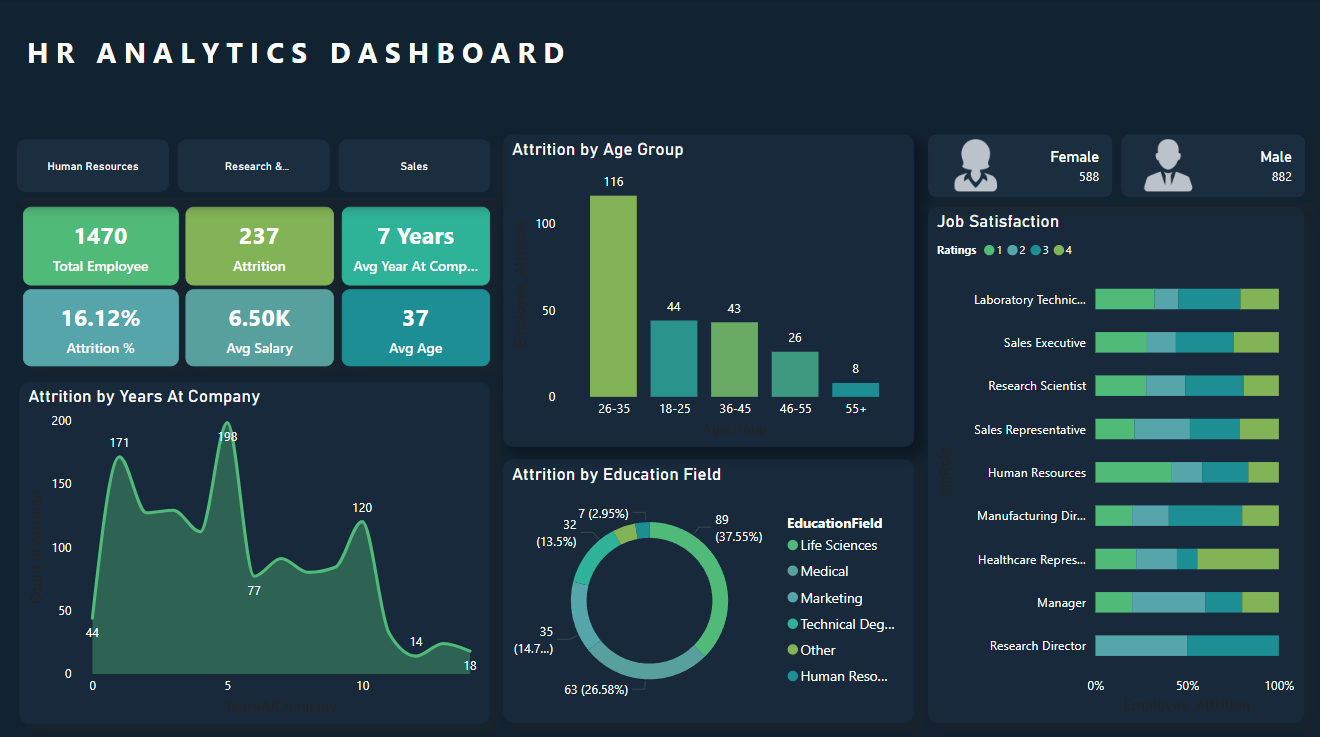

The dashboard page shown, as its layout file describes it:
{"tool":"powerbi","page":{"name":"Page 1","canvas":[1280,720],"ordinal":0},"visuals":[{"type":"image","box":[910,131.4,68.6,60],"z":0},{"type":"image","box":[1095.7,131.4,68.6,60],"z":1000},{"type":"card","fields":{"Values":["HR_Analytics Dataset.Employee_Count"]},"box":[24.3,201.4,150,75.7],"z":2000},{"type":"card","fields":{"Values":["HR_Analytics Dataset.Employee_Attrition"]},"box":[181.4,201.4,142.9,75.7],"z":3000},{"type":"card","fields":{"Values":["HR_Analytics Dataset.Years_With_Text"]},"box":[331.4,201.4,142.9,75.7],"z":4000},{"type":"card","fields":{"Values":["HR_Analytics Dataset.Attrition%"]},"box":[24.3,281.4,150,74.3],"z":5000},{"type":"card","fields":{"Values":["HR_Analytics Dataset.Avg_Salary"]},"box":[181.4,281.4,142.9,74.3],"z":6000},{"type":"card","fields":{"Values":["HR_Analytics Dataset.Avg_Age"]},"box":[331.4,281.4,142.9,74.3],"z":7000},{"type":"areaChart","title":"Attrition by Years At Company","fields":{"Category":["HR_Analytics Dataset.YearsAtCompany"],"Y":["CountNonNull(HR_Analytics Dataset.Attrition)"]},"box":[20,370,454.3,330],"z":8000},{"type":"donutChart","title":"Attrition by Education Field","fields":{"Y":["HR_Analytics Dataset.Employee_Attrition"],"Category":["HR_Analytics Dataset.EducationField"]},"box":[487.1,445.7,397.1,254.3],"z":9000},{"type":"clusteredColumnChart","title":"Attrition by Age Group","fields":{"Category":["HR_Analytics Dataset.AgeGroup"],"Y":["HR_Analytics Dataset.Employee_Attrition"]},"box":[487.1,131.4,397.1,301.4],"z":10000},{"type":"hundredPercentStackedBarChart","title":"Job Satisfaction","fields":{"Y":["HR_Analytics Dataset.Employee_Attrition"],"Series":["HR_Analytics Dataset.JobSatisfaction"],"Category":["HR_Analytics Dataset.JobRole"]},"box":[897.1,201.4,362.9,498.6],"z":11000},{"type":"advancedSlicerVisual","fields":{"Values":["HR_Analytics Dataset.Gender"]},"box":[892.9,127.1,375.7,71.4],"z":12000},{"type":"advancedSlicerVisual","fields":{"Values":["HR_Analytics Dataset.Department"]},"box":[12.9,131.4,468.6,61.4],"z":13000},{"type":"textbox","box":[22.9,28.6,645.7,62.9],"z":14000}]}

Visuals, with their boxes in screenshot pixels (x1, y1, x2, y2), scaled from the page's 1280x720 canvas onto the 1320x737 screenshot:
image: <region>938, 135, 1009, 196</region>
image: <region>1130, 135, 1201, 196</region>
card - HR_Analytics Dataset.Employee_Count: <region>25, 206, 180, 284</region>
card - HR_Analytics Dataset.Employee_Attrition: <region>187, 206, 334, 284</region>
card - HR_Analytics Dataset.Years_With_Text: <region>342, 206, 489, 284</region>
card - HR_Analytics Dataset.Attrition%: <region>25, 288, 180, 364</region>
card - HR_Analytics Dataset.Avg_Salary: <region>187, 288, 334, 364</region>
card - HR_Analytics Dataset.Avg_Age: <region>342, 288, 489, 364</region>
"Attrition by Years At Company" areaChart: <region>21, 379, 489, 717</region>
"Attrition by Education Field" donutChart: <region>502, 456, 912, 717</region>
"Attrition by Age Group" clusteredColumnChart: <region>502, 135, 912, 443</region>
"Job Satisfaction" hundredPercentStackedBarChart: <region>925, 206, 1299, 717</region>
advancedSlicerVisual - HR_Analytics Dataset.Gender: <region>921, 130, 1308, 203</region>
advancedSlicerVisual - HR_Analytics Dataset.Department: <region>13, 135, 497, 197</region>
textbox: <region>24, 29, 689, 94</region>
